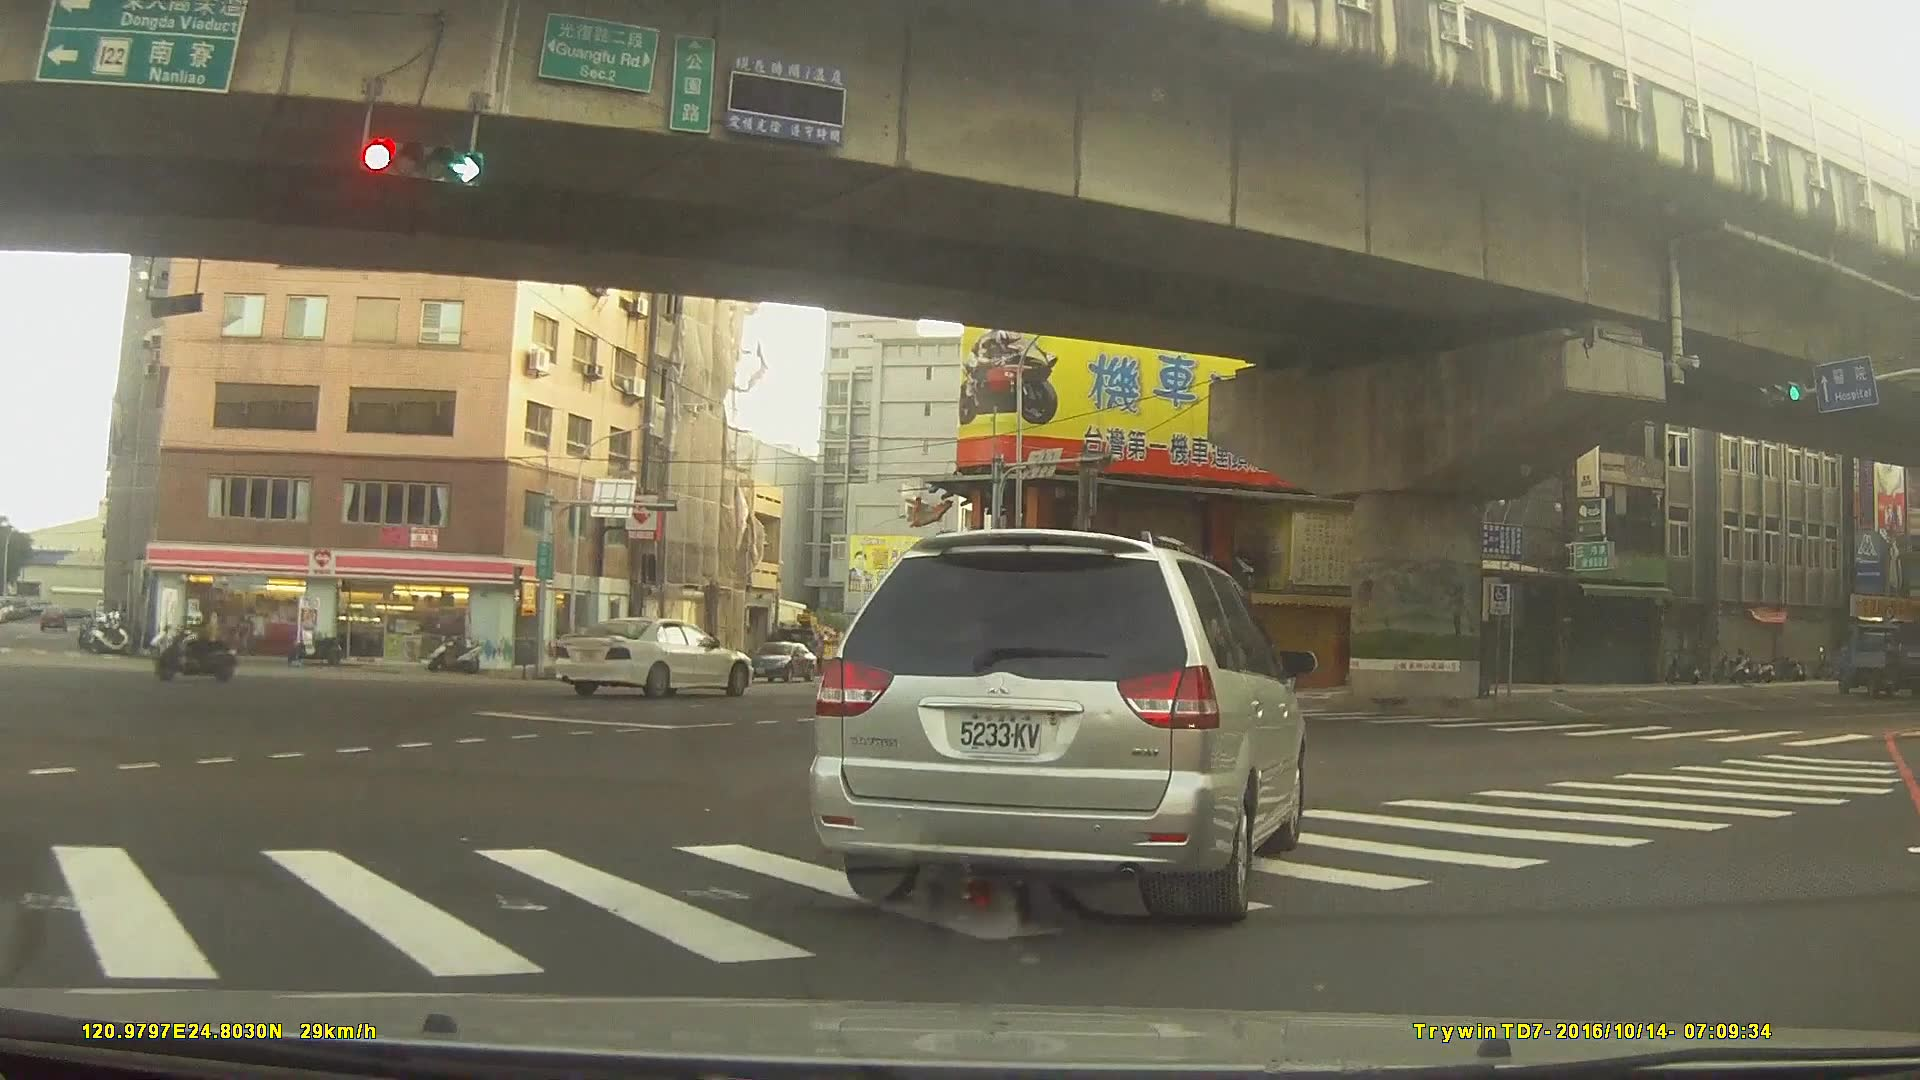rider: (151, 596, 230, 684)
vehicle: (807, 526, 1305, 933), (548, 616, 753, 703), (1829, 621, 1920, 695), (747, 639, 821, 681), (37, 604, 68, 631)
